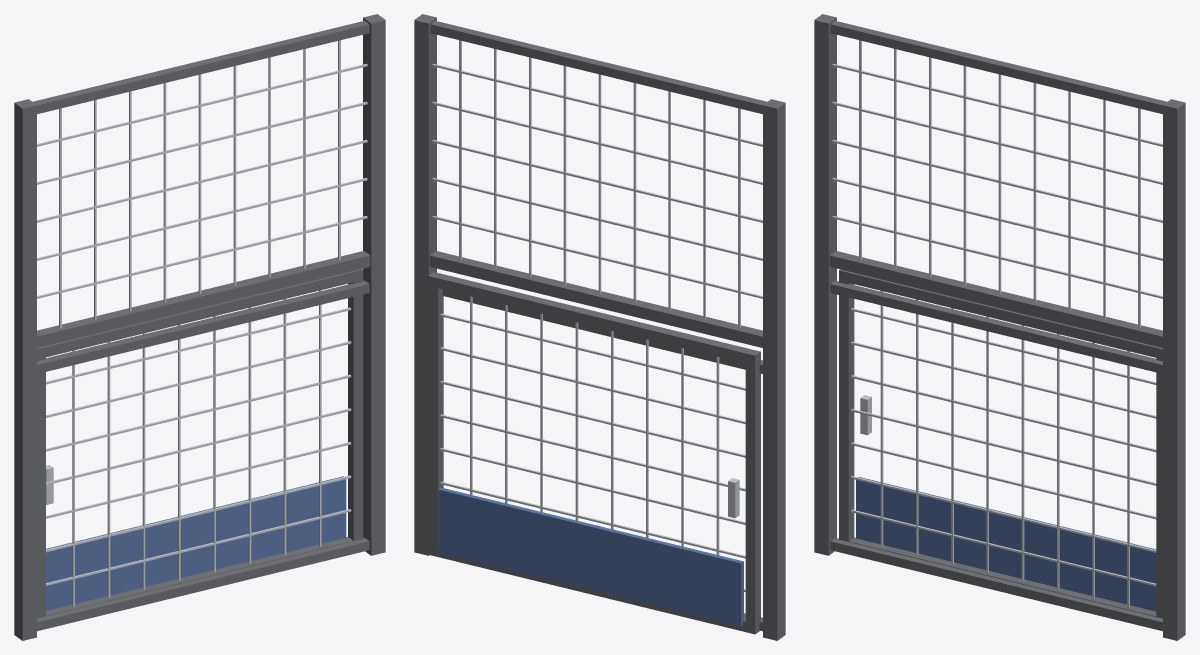
Rendered from baseball-park-and-batting-cages-backstop-gate-panel-8e3d6878__33752.glb.
3 views of the same model, side by side, from view 1: azimuth 30°, elevation 25°; view 2: azimuth 150°, elevation 25°; view 3: azimuth 330°, elevation 25° (orthographic).
Parts seen in each view (by area): view 1: backstop-gate-panel, gate/navy, gate/steel, gate/charcoal; view 2: backstop-gate-panel, gate/navy, gate/charcoal, gate/steel; view 3: backstop-gate-panel, gate/navy, gate/steel, gate/charcoal.
Part boxes in pixels (left/top/right/bottom): backstop-gate-panel: left=14, top=14, right=385, bottom=640; gate/navy: left=46, top=476, right=346, bottom=610; gate/steel: left=46, top=290, right=351, bottom=606; gate/charcoal: left=37, top=269, right=363, bottom=618; backstop-gate-panel: left=414, top=14, right=785, bottom=640; gate/navy: left=438, top=487, right=743, bottom=626; gate/charcoal: left=428, top=272, right=760, bottom=634; gate/steel: left=440, top=296, right=745, bottom=591; backstop-gate-panel: left=814, top=14, right=1185, bottom=640; gate/navy: left=856, top=477, right=1156, bottom=611; gate/steel: left=851, top=291, right=1156, bottom=607; gate/charcoal: left=839, top=269, right=1162, bottom=618.
Size of the model in its own units: 3 by 4.2 by 0.22.
